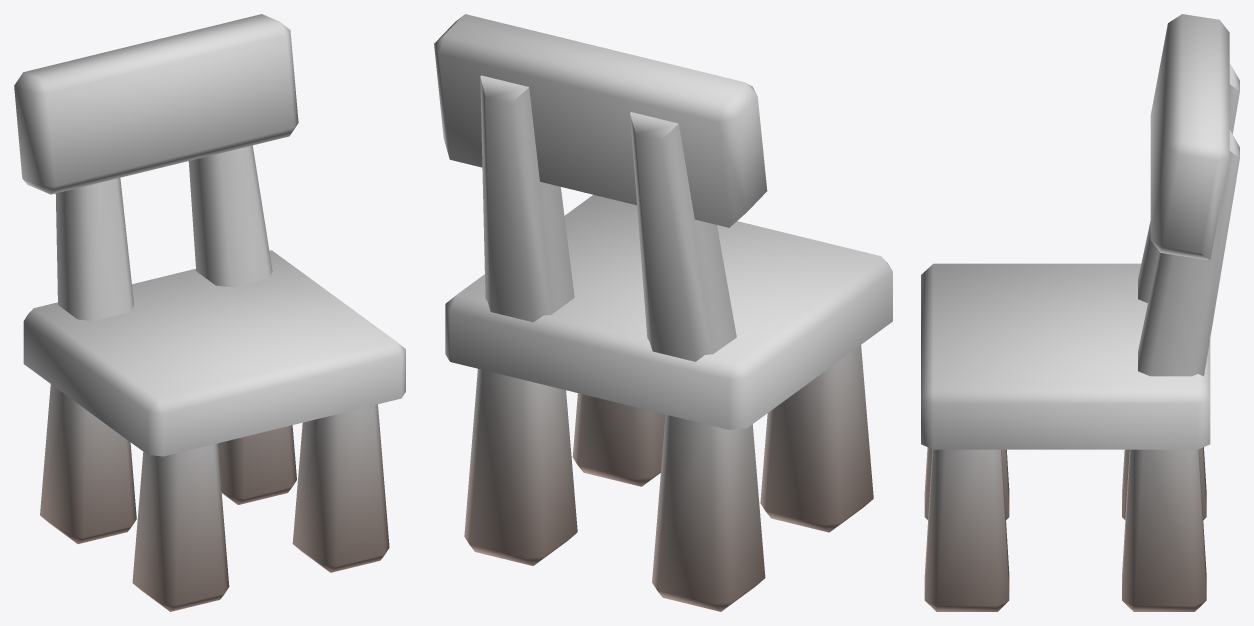
Rendered from NF_Env_Chair 01.fbx.
3 renders of one model, left to right at view 1: azimuth 30°, elevation 25°; view 2: azimuth 150°, elevation 25°; view 3: azimuth 270°, elevation 25°, orthographic. The views are drawn at different scales.
Parts seen in each view (by area): view 1: Сhair 01; view 2: Сhair 01; view 3: Сhair 01.
Boxes of the visible parts, bbox=[...] form: Сhair 01: bbox=[14, 14, 405, 611]; Сhair 01: bbox=[434, 14, 892, 611]; Сhair 01: bbox=[921, 14, 1239, 611].
Bounding box in the file's own units: 0.9014 × 1.5 × 0.9023.
